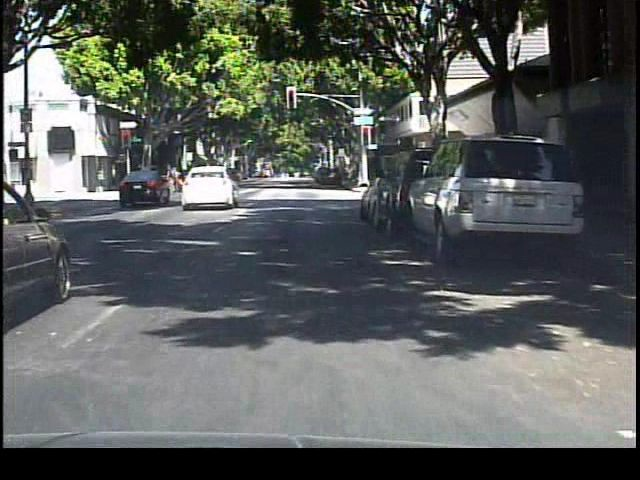person: (169, 162, 185, 201)
